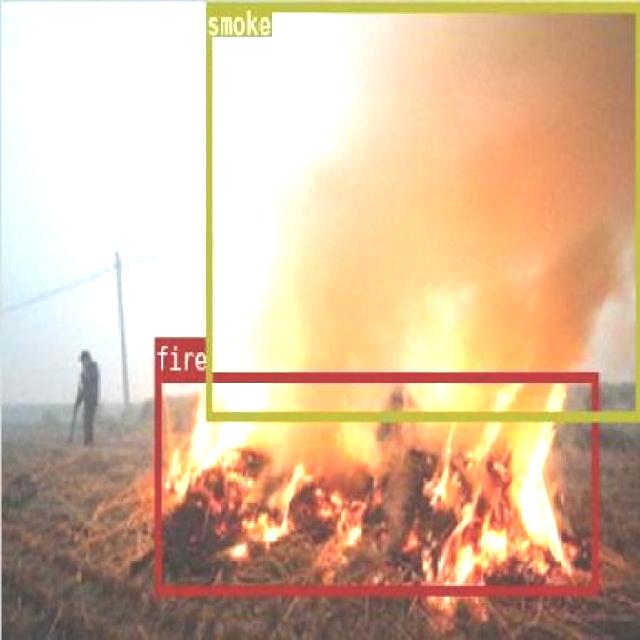fire: (155, 371, 598, 594)
smoke: (204, 0, 640, 418)
